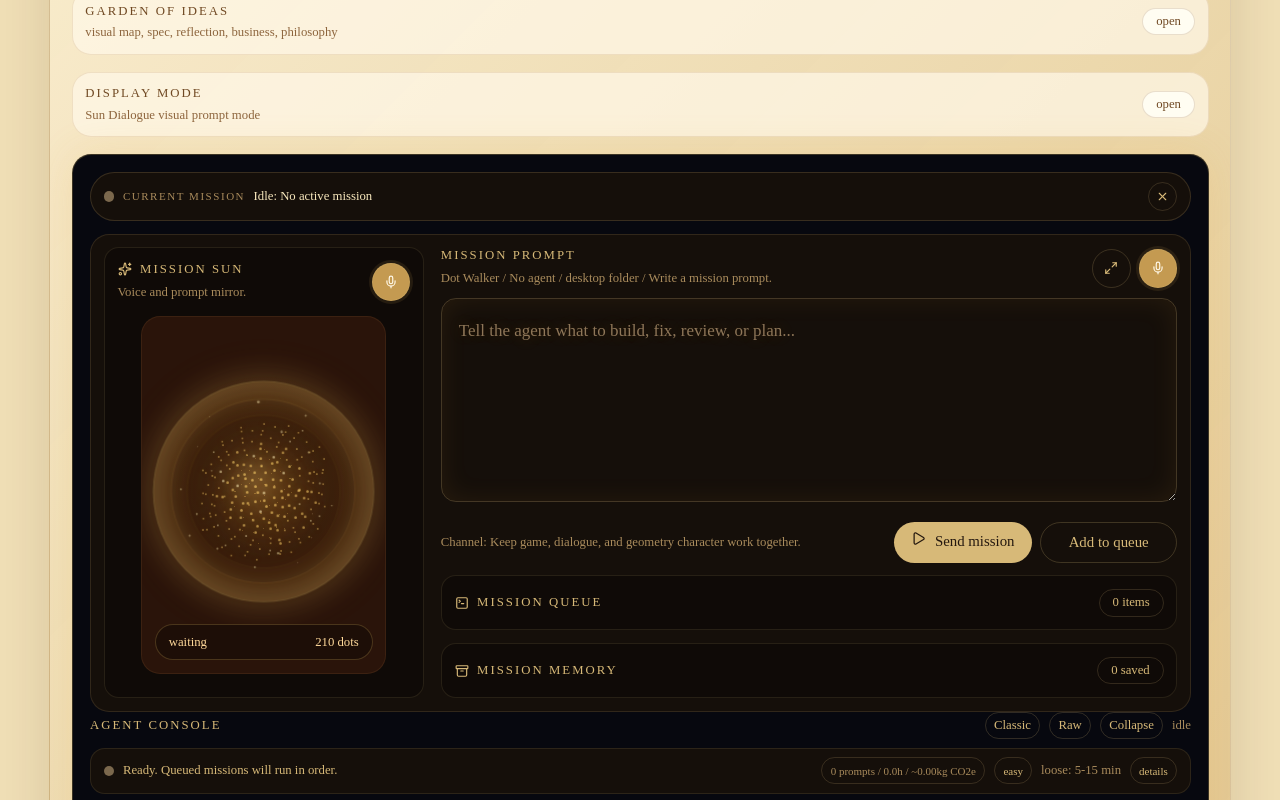
BuildLab › shows the current mission first in a closable Agent console pill
(page scrolled)
Check: the text "Mission prompt" is shown, box [440, 249, 576, 263]
Type "Make the console mission visible at the top." into the text box with placeholder "Tell the agent what to build, fix, review, or plan..." at (809, 400), box [440, 298, 1177, 502]
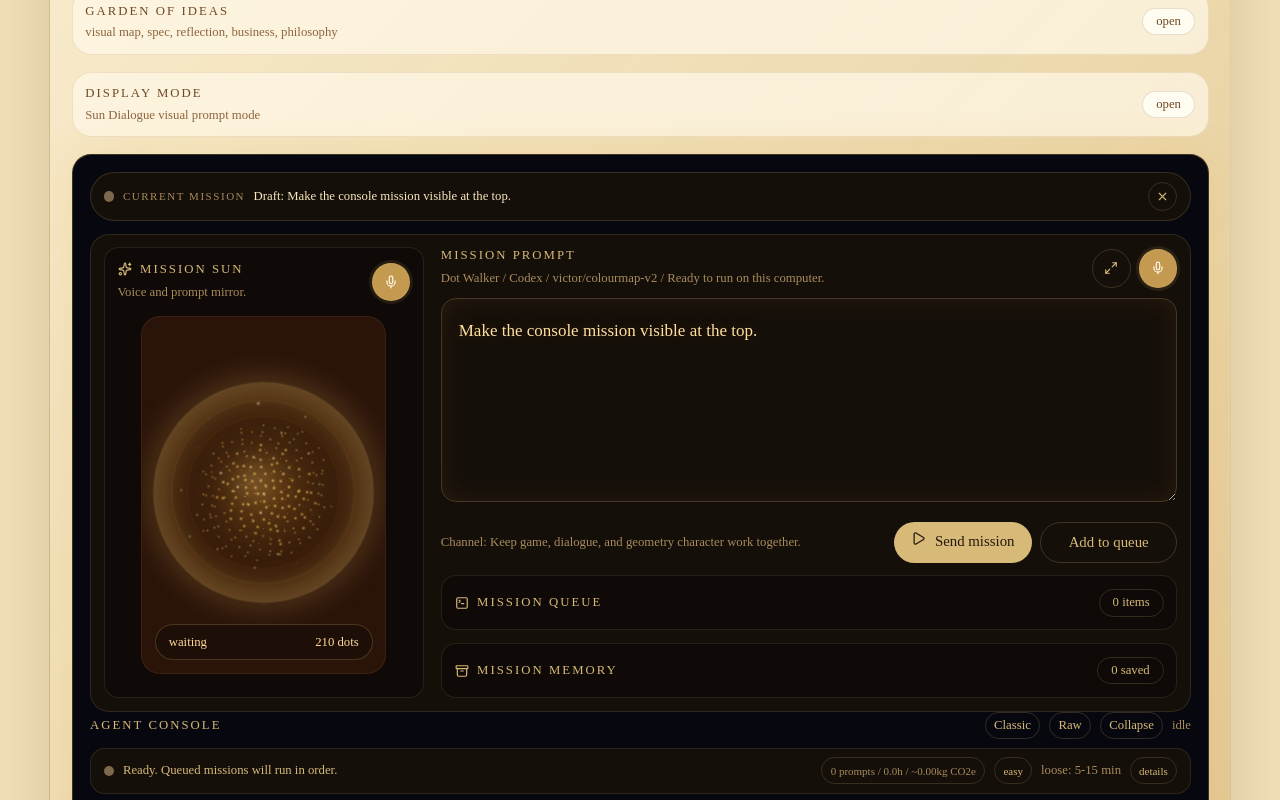
Check: the text "Draft: Make the console mission visible at the top." is shown, box [253, 188, 511, 205]
Click the button named "Close current mission pill" at (1162, 197), box [1147, 182, 1177, 212]
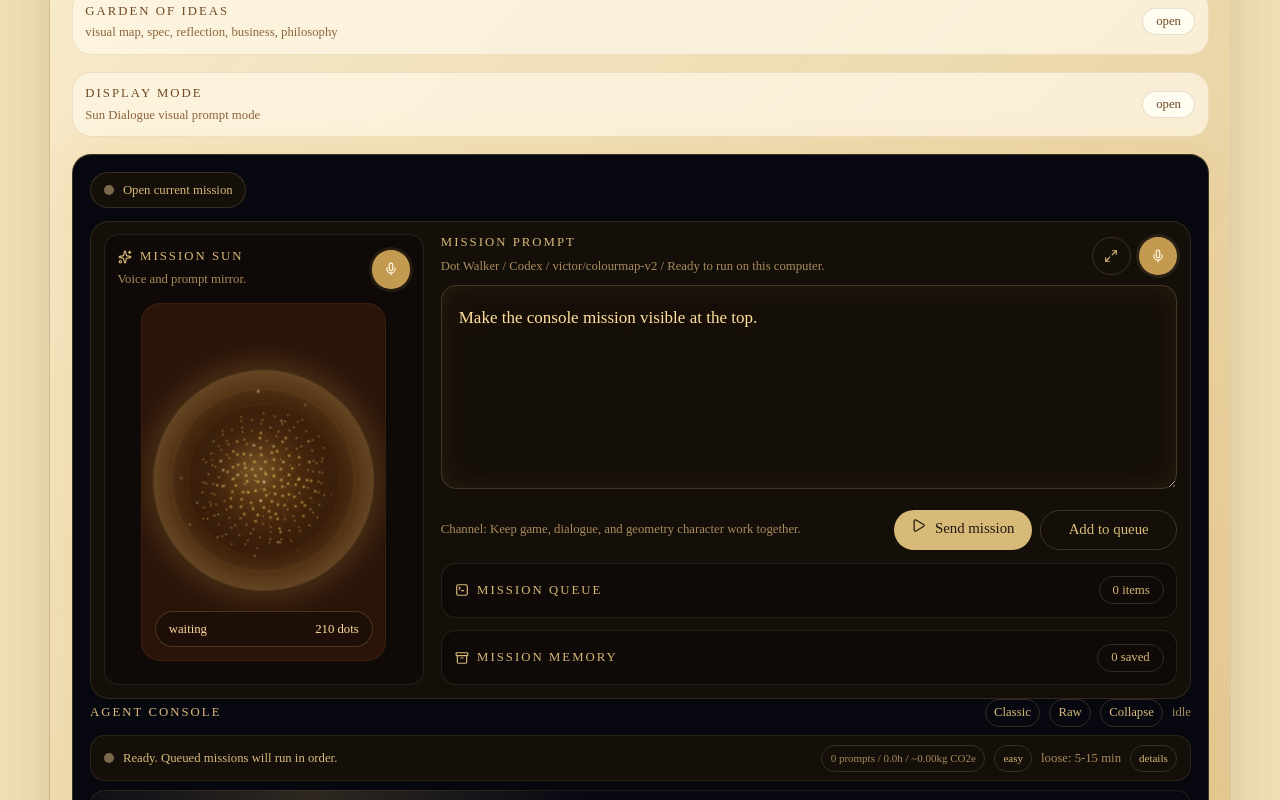
Check: the button with aria-label "Open current mission pill" is shown, box [90, 172, 246, 208]
Check: the text "Draft: Make the console mission visible at the top." is gone
Click the button with aria-label "Collapse agent console output" at (1131, 713), box [1099, 700, 1163, 727]
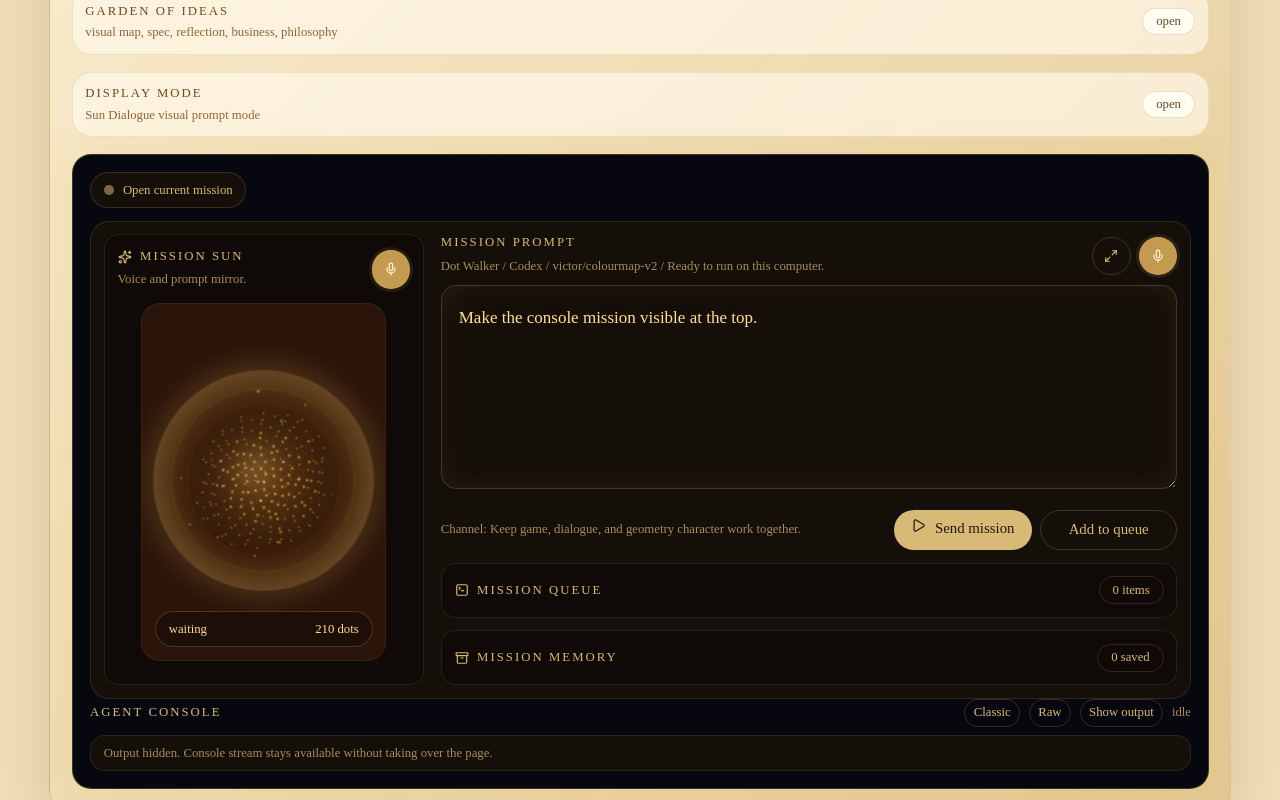
Click the button with aria-label "Open current mission pill" at (168, 190), box [90, 172, 246, 208]
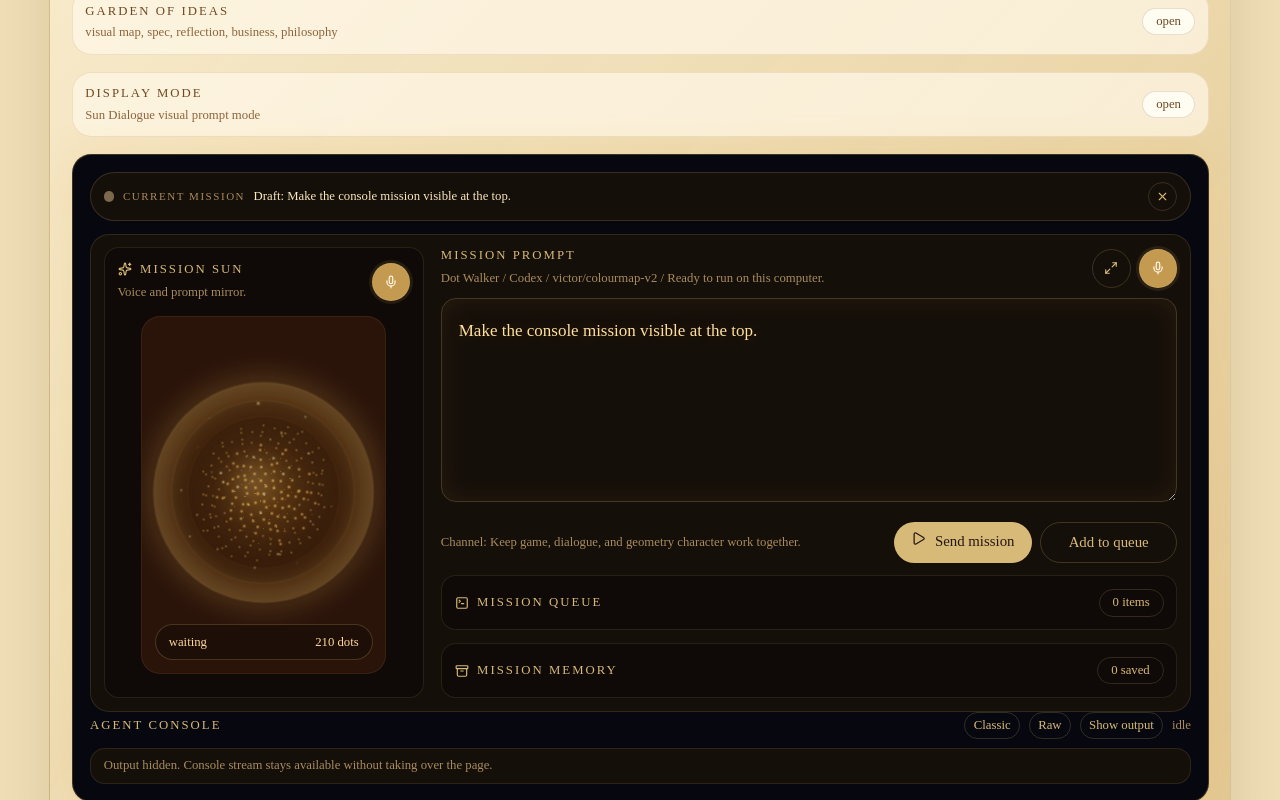
Check: the text "Draft: Make the console mission visible at the top." is shown, box [253, 188, 511, 205]
